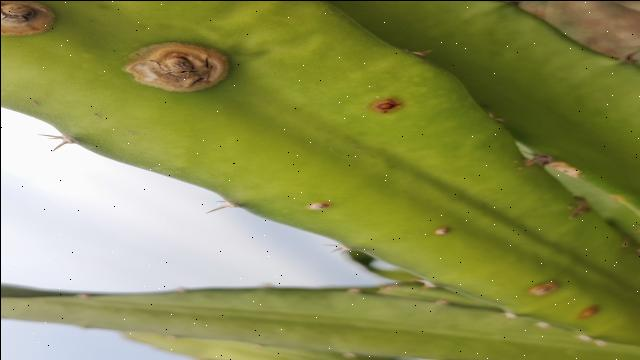stemcanker: (122, 41, 232, 95), (1, 1, 61, 40), (521, 275, 562, 302), (365, 93, 406, 118), (576, 298, 605, 323)
